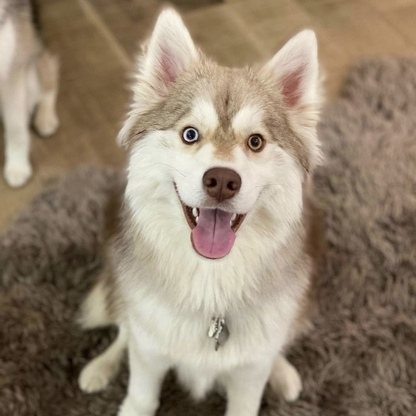husky: (70, 3, 335, 416)
